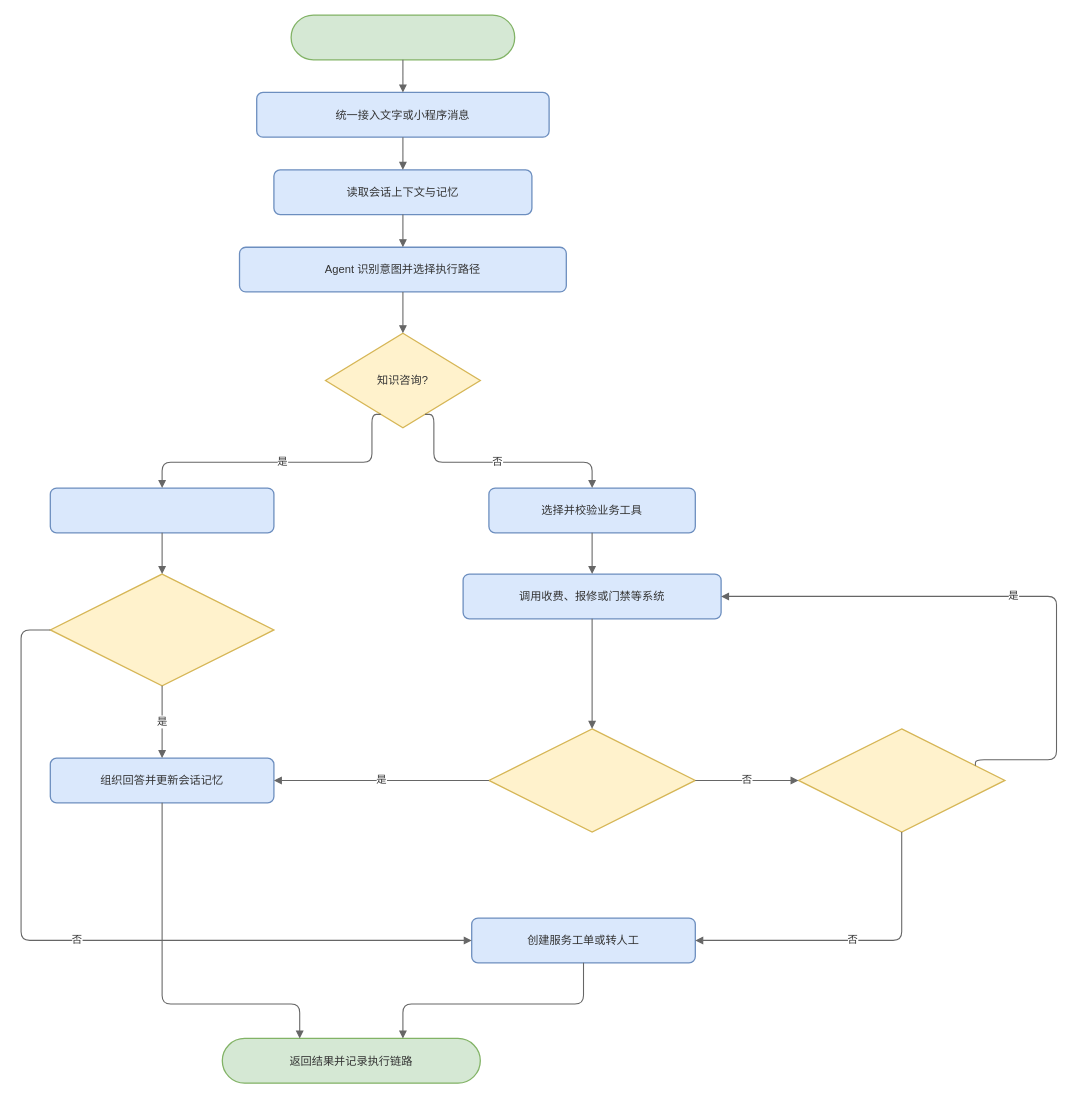
This 1079x1099 diagram has some shape labels left out. The centre of each missing label's shape, as x and y in pixels:
"RAG 检索已审核知识片段" goes at point 161,510.
"住户或商户发起咨询" goes at point 402,37.
"可重试且未超限?" goes at point 901,780.
"工具执行成功?" goes at point 592,780.
"检索内容足以回答?" goes at point 161,629.
